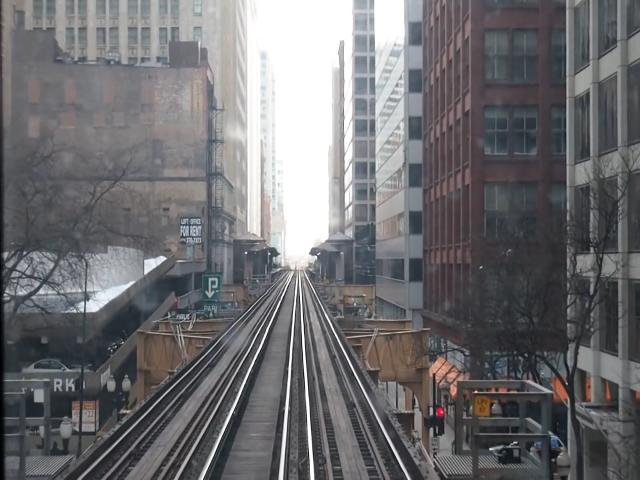signal light: (435, 406, 448, 439)
